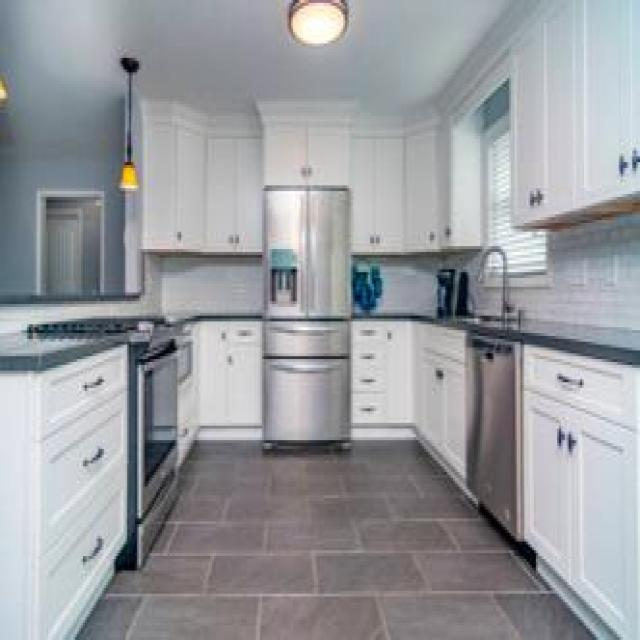dishwasher: (464, 324, 520, 544)
